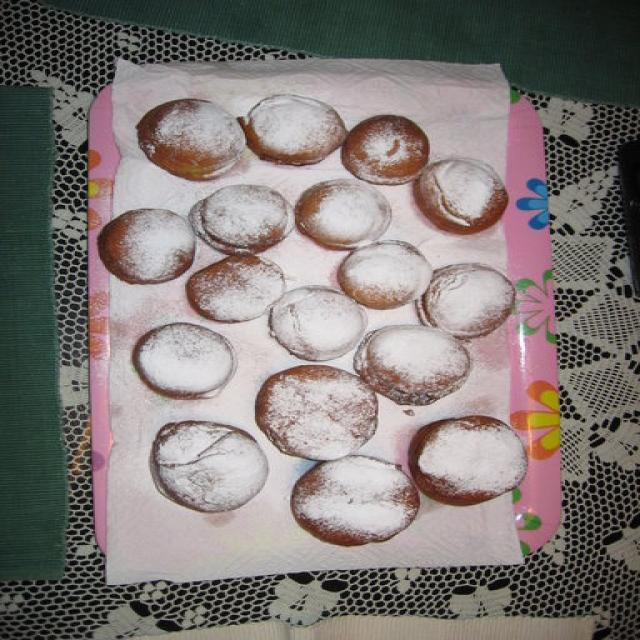Donuts: (79, 84, 564, 583)
